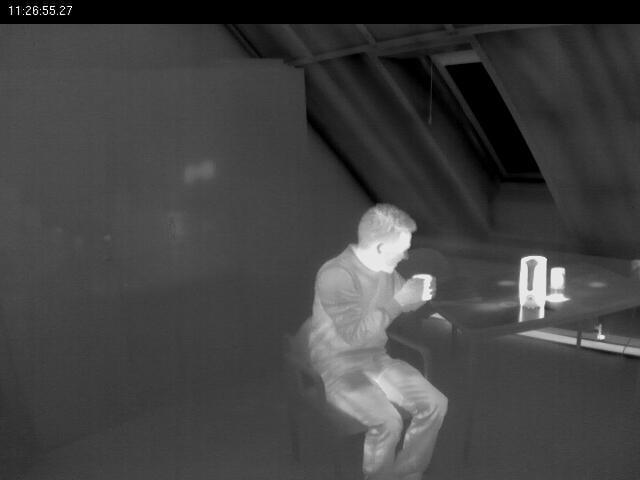person: (295, 200, 451, 479)
